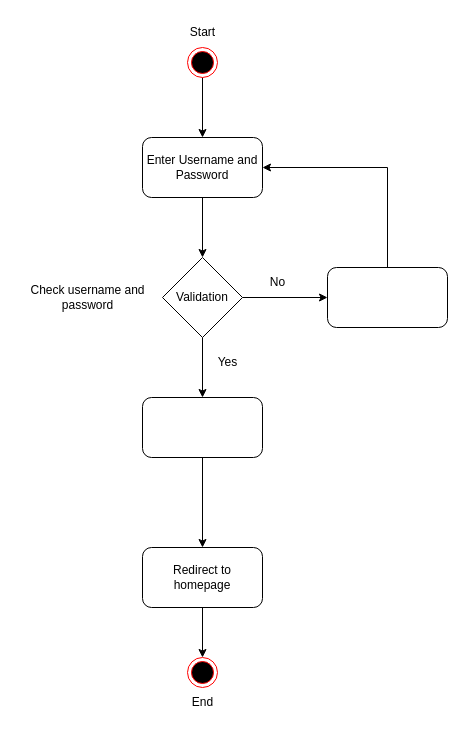
The diagram is 465 pixels wide and 734 high, and some of its shapes have lost their labels. The centre of each missing label's shape, as x and y in pixels:
"Invalid Username and Password" goes at point 387,297.
"Login sucessfully" goes at point 202,427.
